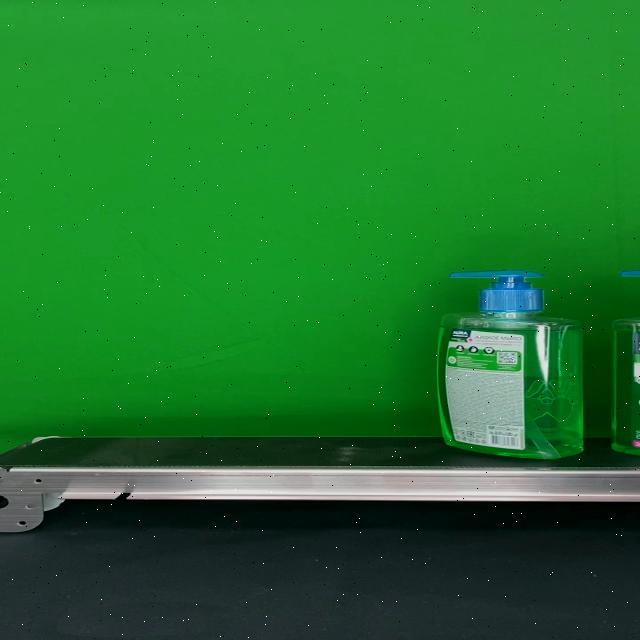Bottle: (436, 270, 584, 460)
Cap: (449, 270, 545, 312)
